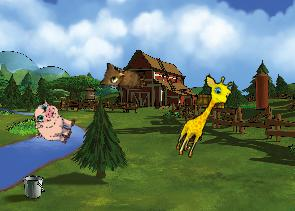giraffe: (172, 70, 236, 164)
owl: (99, 60, 147, 90)
pig: (27, 98, 79, 148)
